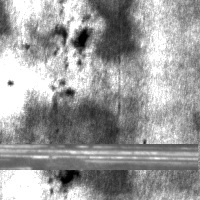inclusion: (57, 23, 92, 53), (50, 165, 82, 192)
patches: (14, 101, 132, 193), (89, 1, 137, 59)
scratches: (0, 144, 198, 170)
